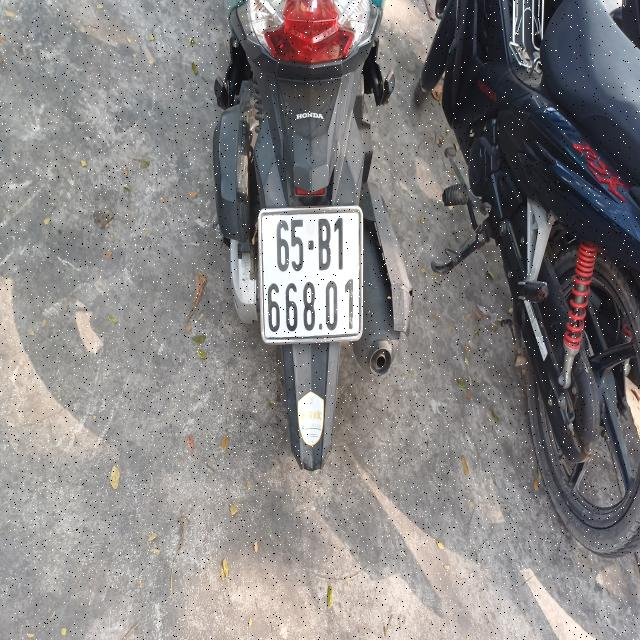0: (325, 280, 338, 331)
1: (267, 281, 281, 333), (334, 218, 344, 272), (345, 277, 355, 331)
5: (290, 218, 305, 270)
6: (276, 218, 290, 274), (285, 282, 299, 332)
8: (303, 280, 316, 332)
B: (317, 218, 332, 270)
